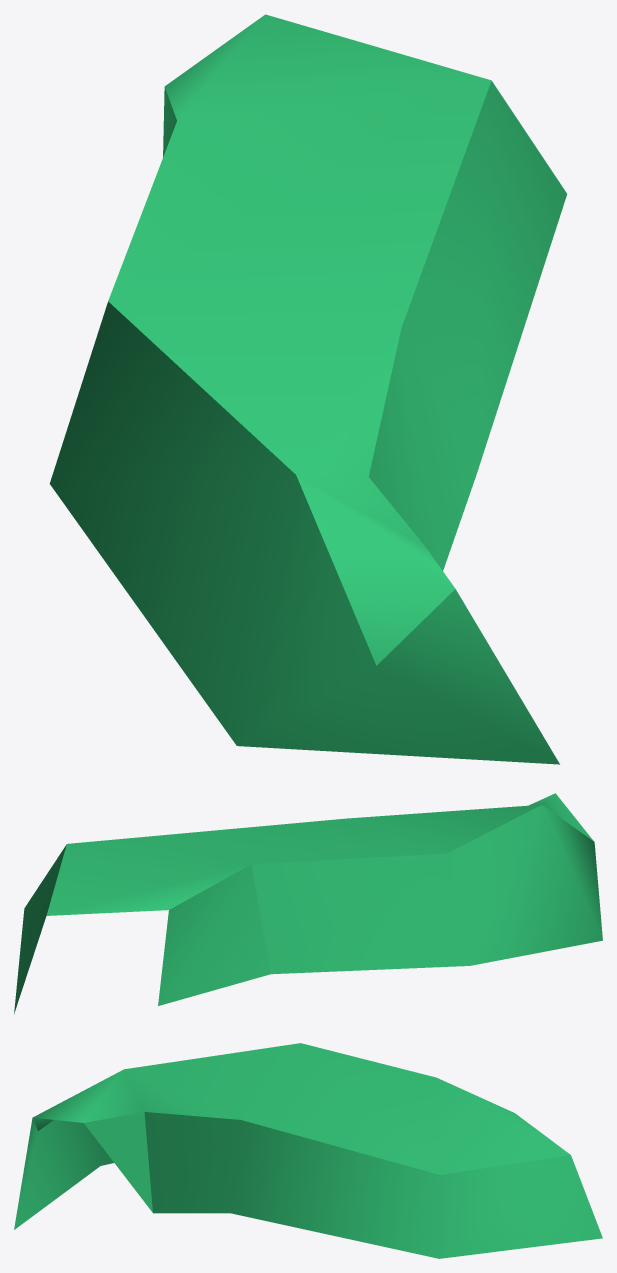
The model's file is cluster_5.fbx.
3 views of the same model, one above another, from view 1: azimuth 30°, elevation 25°; view 2: azimuth 150°, elevation 25°; view 3: azimuth 270°, elevation 25° (orthographic). The views are drawn at different scales.
Visible parts, largest first — view 1: cluster_5; view 2: cluster_5; view 3: cluster_5.
Part boxes in pixels (x1=…): cluster_5: x1=49, y1=14, x2=566, y2=764; cluster_5: x1=14, y1=793, x2=602, y2=1013; cluster_5: x1=14, y1=1043, x2=602, y2=1258.
Bounding box in the file's own units: 57576 × 26690 × 87771.
